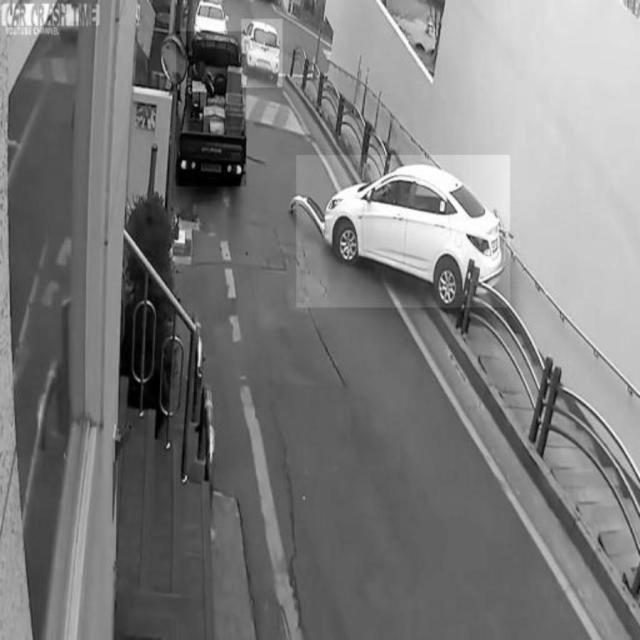accident: (296, 155, 510, 307)
vehicle: (176, 32, 246, 186), (241, 19, 282, 87)
